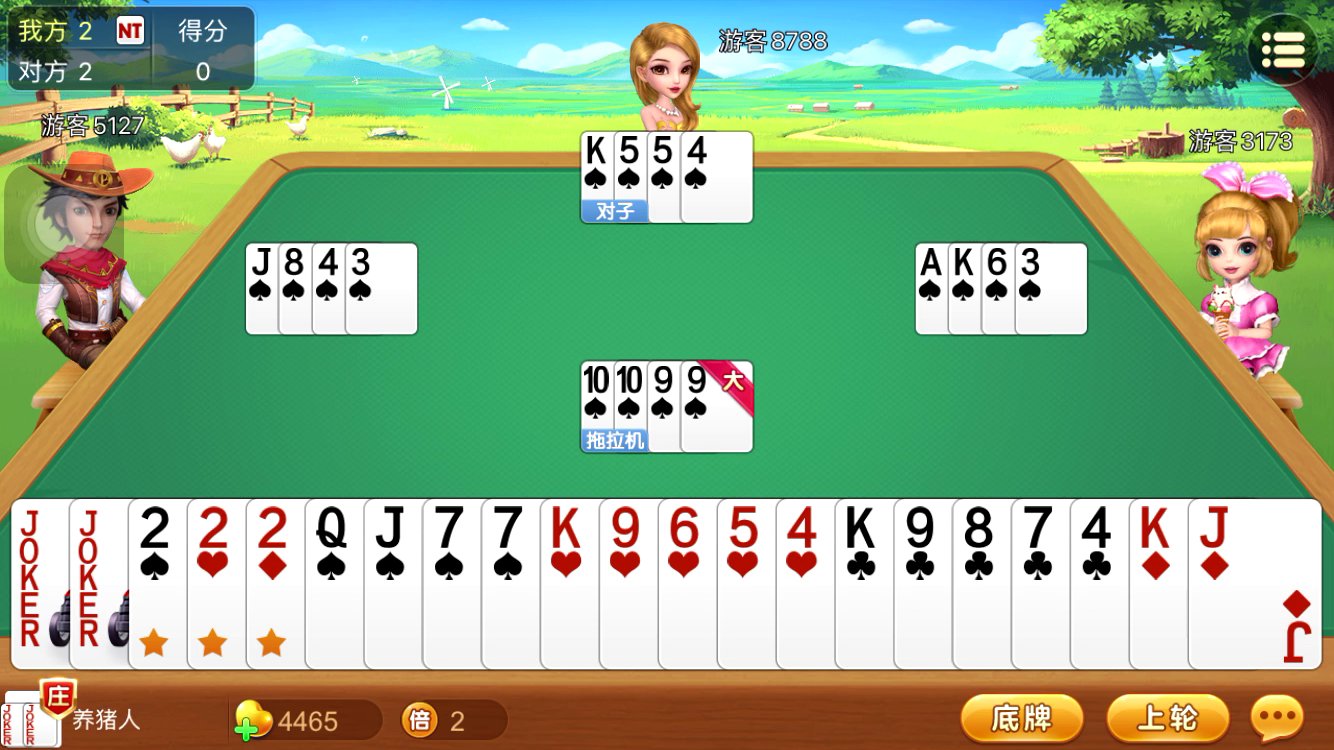A: (915, 245, 946, 282)
J: (1193, 503, 1239, 554), (368, 503, 410, 556), (246, 245, 276, 282)
JOKER: (71, 505, 108, 596), (13, 507, 50, 598)
K: (544, 504, 591, 554), (1134, 502, 1178, 554), (841, 502, 885, 554), (949, 245, 978, 282)
Q: (309, 504, 355, 555)
eight: (959, 505, 1001, 555), (280, 245, 306, 283)
five: (722, 503, 767, 552), (615, 132, 645, 172), (649, 134, 677, 171)
four: (1070, 499, 1122, 552), (780, 504, 826, 552), (682, 132, 715, 171), (313, 245, 342, 282)
nine: (898, 503, 943, 554), (603, 504, 649, 553), (682, 362, 713, 400), (649, 362, 676, 399)
seven: (428, 496, 473, 555), (485, 502, 530, 554), (1016, 502, 1059, 554), (580, 132, 611, 170)
six: (663, 504, 709, 552), (985, 245, 1013, 279)
ten: (581, 363, 611, 400), (615, 363, 644, 399)
three: (347, 245, 380, 283), (1017, 246, 1049, 283)
two: (133, 503, 179, 554), (250, 504, 296, 554), (191, 504, 238, 551)
